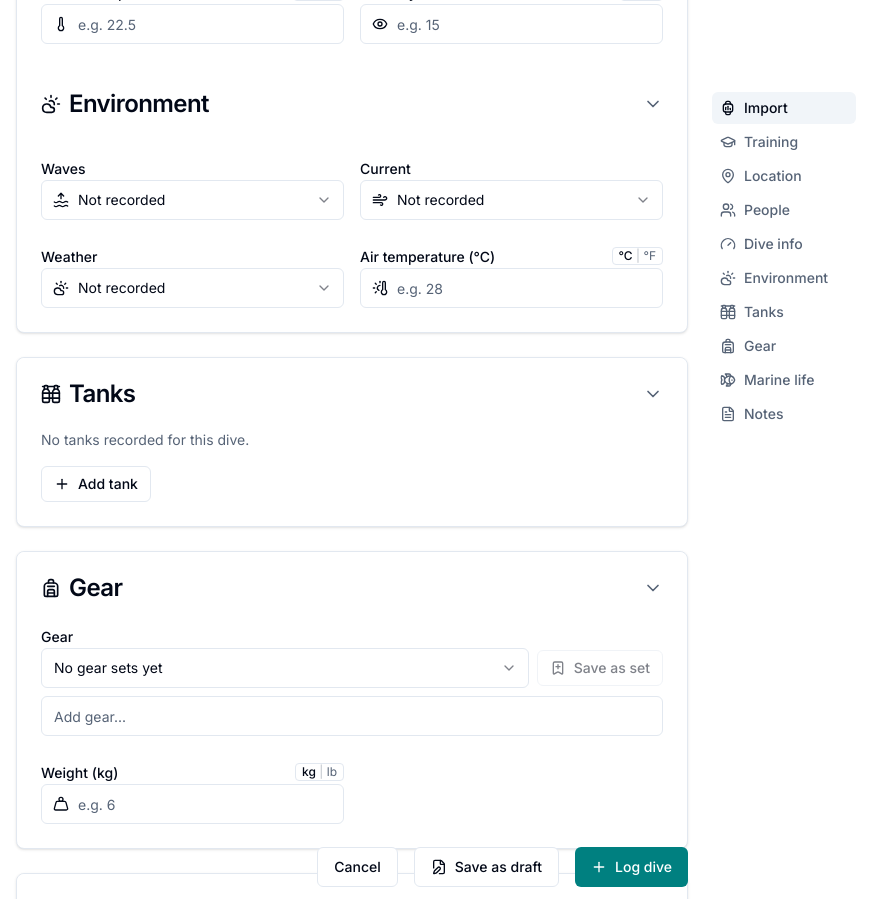
Test case: the gas card, once the diver opens it › proposes a cylinder on Add tank, and lets it be taken back off
(page scrolled)
What coordinates should you click on to do the following:
click the button "Add tank"
I would click on:
 (96, 484)
Its box is [41, 466, 151, 502].
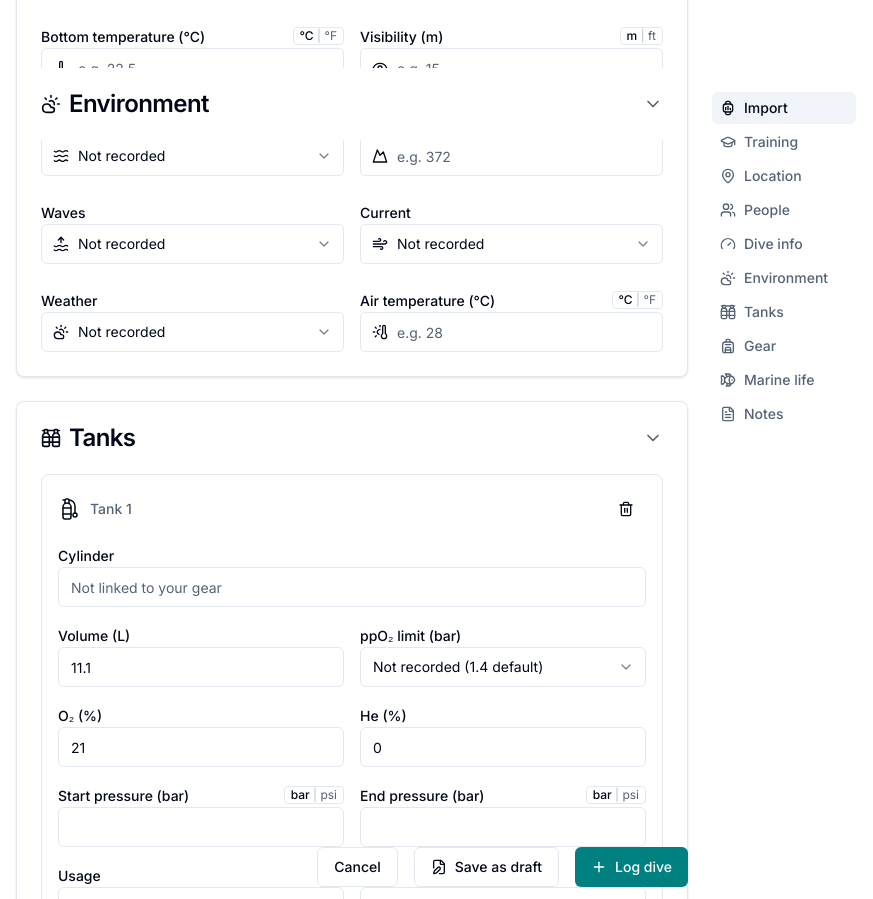
Expected: the text "Tank 1" is shown, [58, 497, 132, 521]
Expected: the number field labelled "O₂ (%)" holds "21", [58, 727, 344, 767]
What coordinates should you click on to do the following:
click the button named "remove tank 1"
I would click on:
 (626, 509)
Its box is [606, 491, 646, 527].
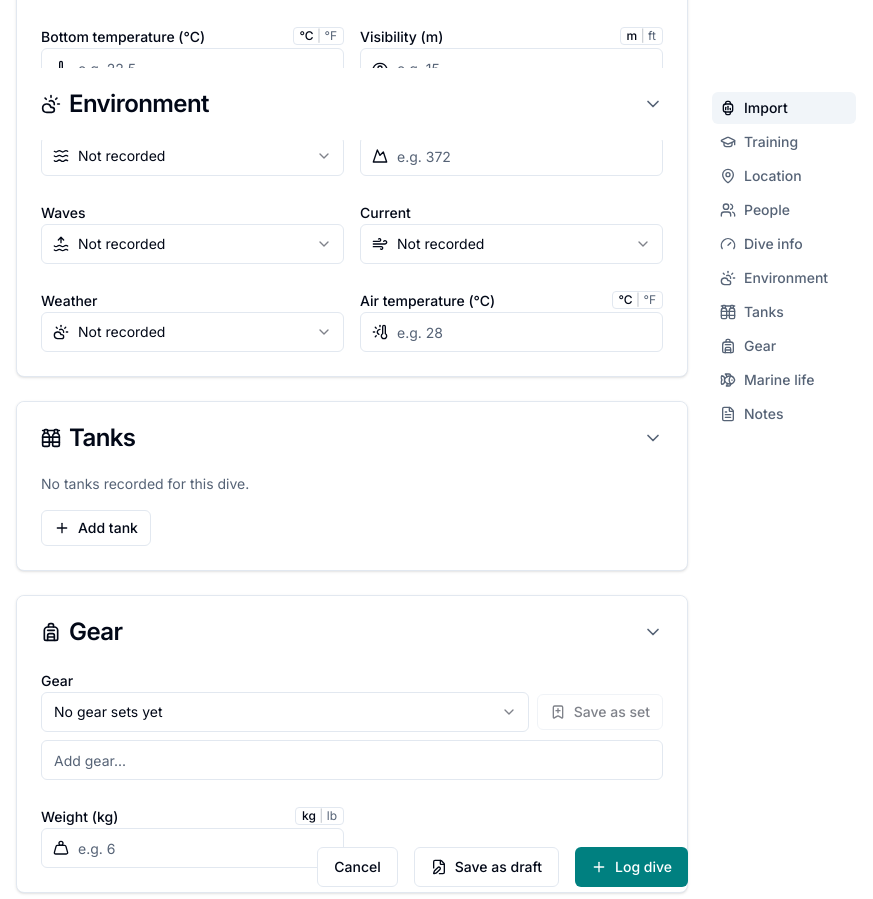
Expected: the text "Tank 1" is gone
Expected: the text "No tanks recorded for this dive." is shown, [41, 475, 249, 492]
